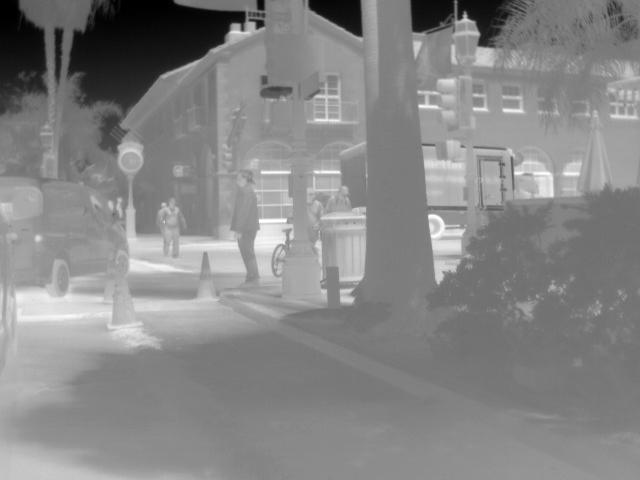car: (1, 174, 129, 299)
person: (228, 166, 261, 286), (159, 196, 189, 257), (304, 188, 325, 244), (326, 188, 352, 216)
